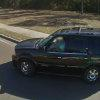Car: (7, 21, 99, 88)
